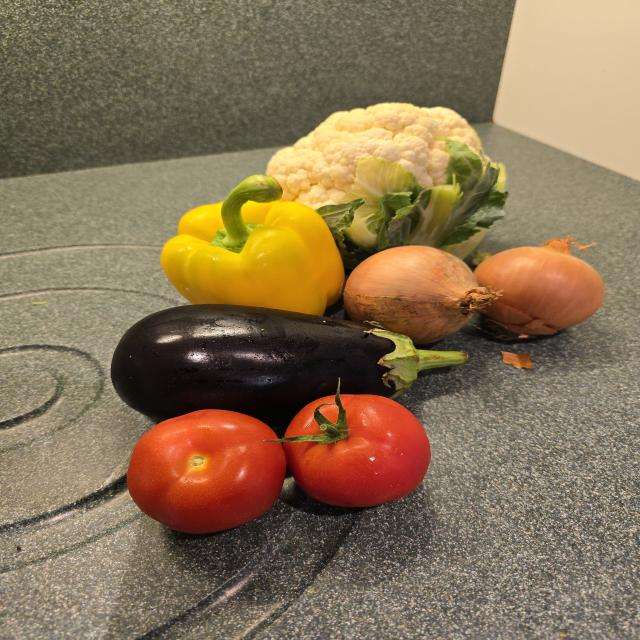Bell Pepper: (160, 175, 345, 315)
Cauliflower: (266, 103, 507, 268)
Eggplant: (111, 304, 467, 428)
Onion: (344, 246, 500, 345), (474, 237, 604, 341)
Tomato: (128, 410, 286, 533), (283, 395, 430, 507)
